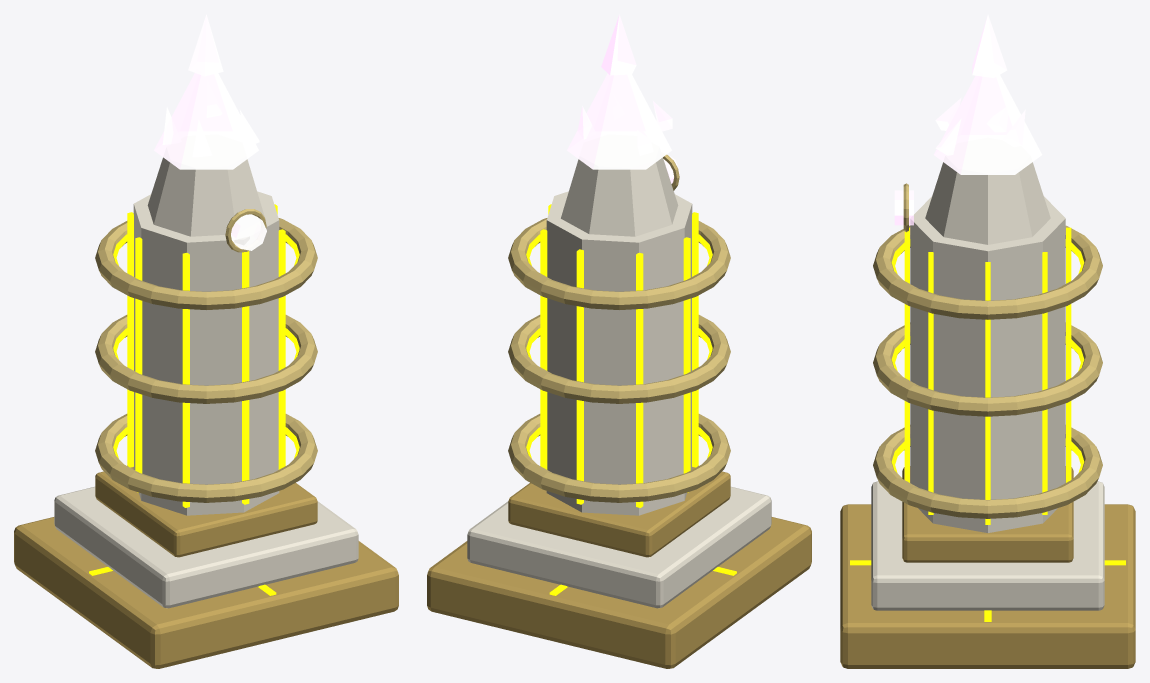
File: solar_beam_monolith_tower.glb
The picture shows the model from 3 angles, left to right: view 1: azimuth 30°, elevation 25°; view 2: azimuth 150°, elevation 25°; view 3: azimuth 270°, elevation 25°; orthographic projection. The views are drawn at different scales.
Visible parts, largest first — view 1: SOL_mono_body, SOL_step1, SOL_step2, SOL_step3, SOL_mono_taper, SOL_crystal_base, SOL_ring_19, SOL_ring_8, SOL_ring_14, SOL_vein_225, SOL_vein_180, SOL_vein_135 (+4 smaller); view 2: SOL_mono_body, SOL_step1, SOL_step2, SOL_step3, SOL_mono_taper, SOL_crystal_base, SOL_ring_19, SOL_ring_8, SOL_ring_14, SOL_vein_315, SOL_vein_0, SOL_vein_45 (+3 smaller); view 3: SOL_mono_body, SOL_step1, SOL_step2, SOL_mono_taper, SOL_step3, SOL_crystal_base, SOL_ring_14, SOL_ring_19, SOL_ring_8, SOL_crystal_tip, SOL_vein_0, SOL_vein_90 (+4 smaller).
Boxes of the visible parts, x1,y1,x2,y2 form: SOL_mono_body: (133, 191, 279, 515); SOL_step1: (14, 517, 398, 668); SOL_step2: (54, 486, 358, 608); SOL_step3: (95, 465, 317, 557); SOL_mono_taper: (147, 157, 264, 236); SOL_crystal_base: (154, 73, 258, 169); SOL_ring_19: (95, 218, 317, 309); SOL_ring_8: (95, 414, 317, 502); SOL_ring_14: (95, 315, 317, 403); SOL_vein_225: (182, 252, 189, 507); SOL_vein_180: (242, 251, 249, 504); SOL_vein_135: (278, 229, 285, 469); SOL_mono_body: (546, 191, 692, 515); SOL_step1: (427, 517, 811, 668); SOL_step2: (467, 486, 771, 608); SOL_step3: (508, 465, 730, 557); SOL_mono_taper: (561, 157, 678, 236); SOL_crystal_base: (567, 73, 671, 169); SOL_ring_19: (508, 218, 730, 309); SOL_ring_8: (508, 414, 730, 502); SOL_ring_14: (508, 315, 730, 403); SOL_vein_315: (636, 252, 643, 507); SOL_vein_0: (576, 249, 583, 504); SOL_vein_45: (540, 229, 547, 469); SOL_mono_body: (910, 196, 1065, 532); SOL_step1: (840, 504, 1135, 668); SOL_step2: (871, 481, 1104, 610); SOL_mono_taper: (925, 162, 1050, 244); SOL_step3: (902, 466, 1073, 562); SOL_crystal_base: (933, 75, 1042, 174); SOL_ring_14: (873, 322, 1102, 416); SOL_ring_19: (873, 225, 1102, 319); SOL_ring_8: (873, 425, 1102, 518); SOL_crystal_tip: (972, 14, 1007, 77); SOL_vein_0: (1066, 227, 1071, 482); SOL_vein_90: (985, 262, 990, 524).
Bounding box in the file's own units: 1.52 × 3.38 × 1.52.
